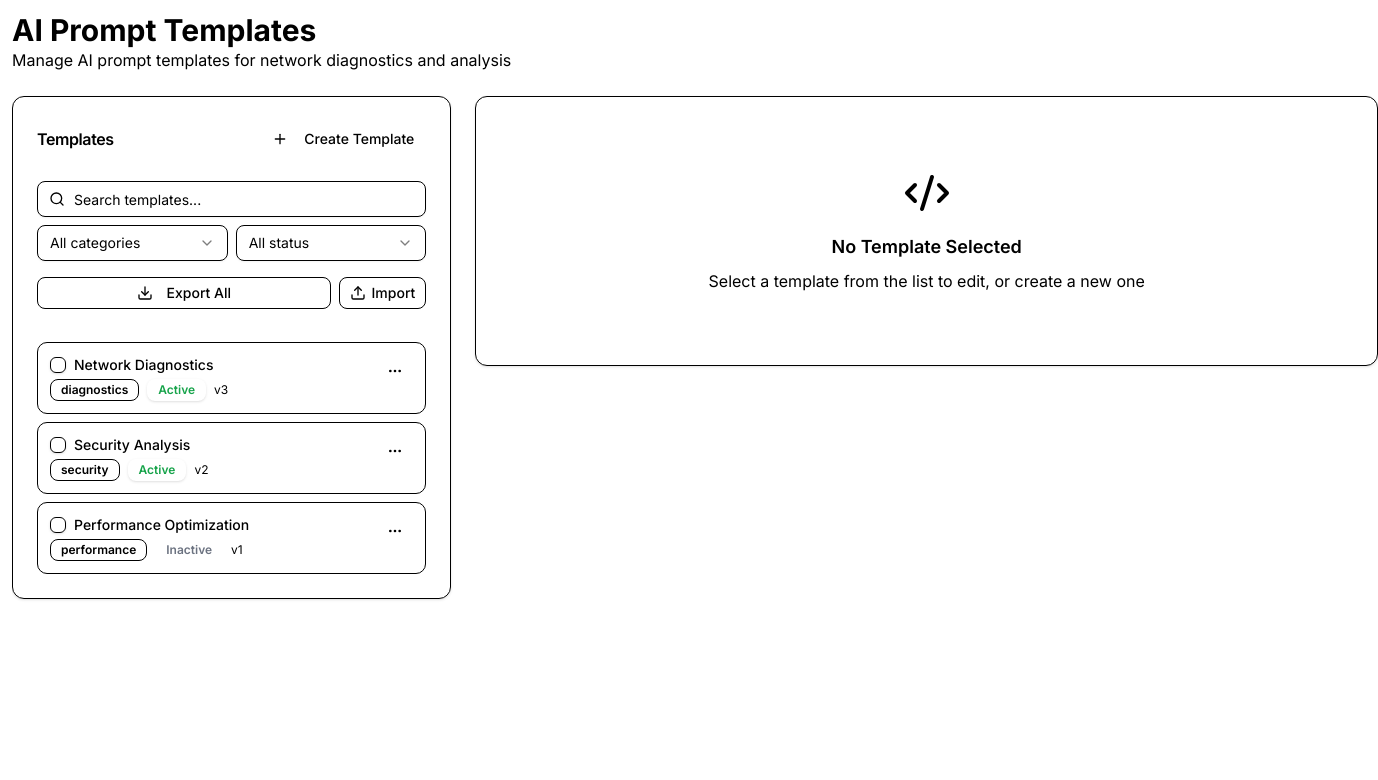
Test: PromptTemplateEditor › Delete Prompt › should show delete button for each prompt
Expected: the element with test id "prompt-item-prompt-1" is shown, x1=37 y1=342 x2=426 y2=414
Note: Click the dropdown menu button (MoreHorizontal icon)
Click the 4th button: coordinates (395, 371) x1=377 y1=355 x2=413 y2=387
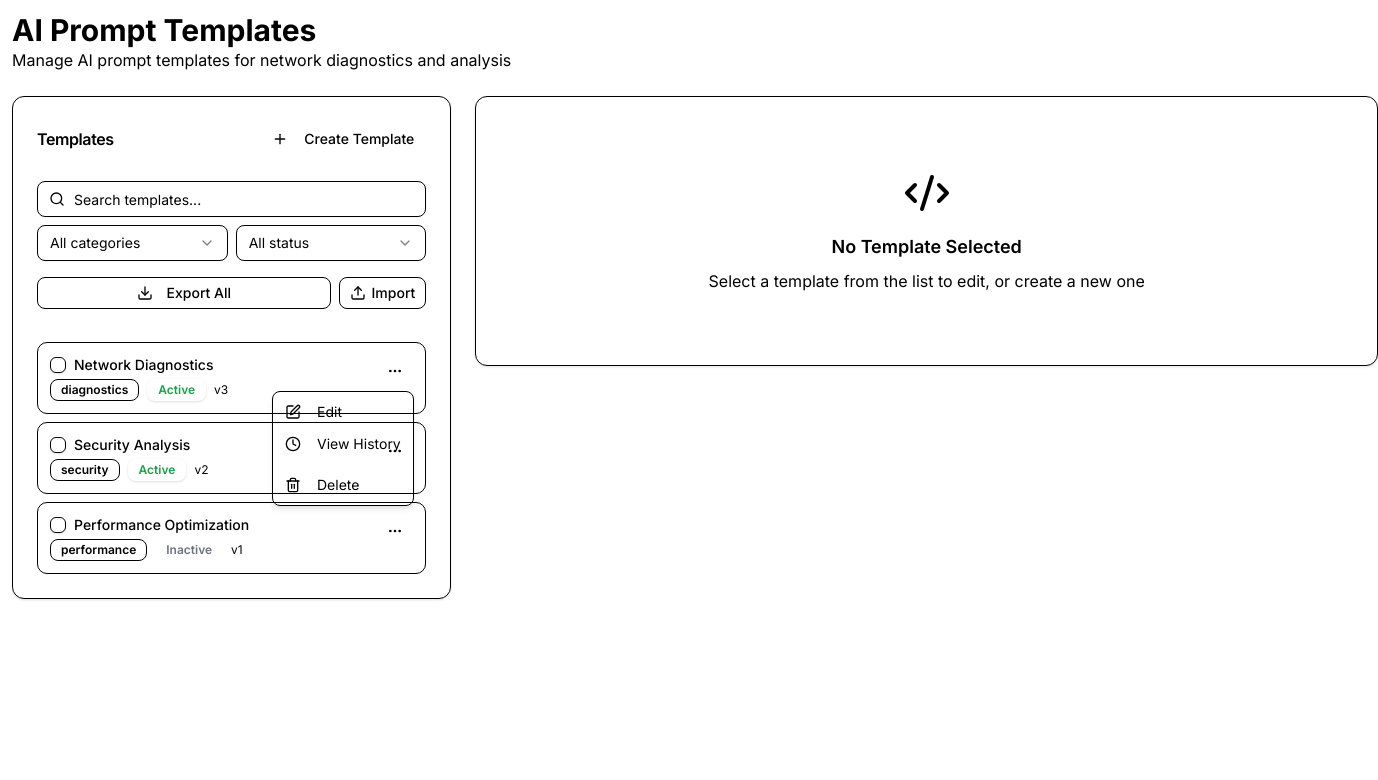
Expected: the menu item "Delete" is shown, x1=285 y1=476 x2=359 y2=493
